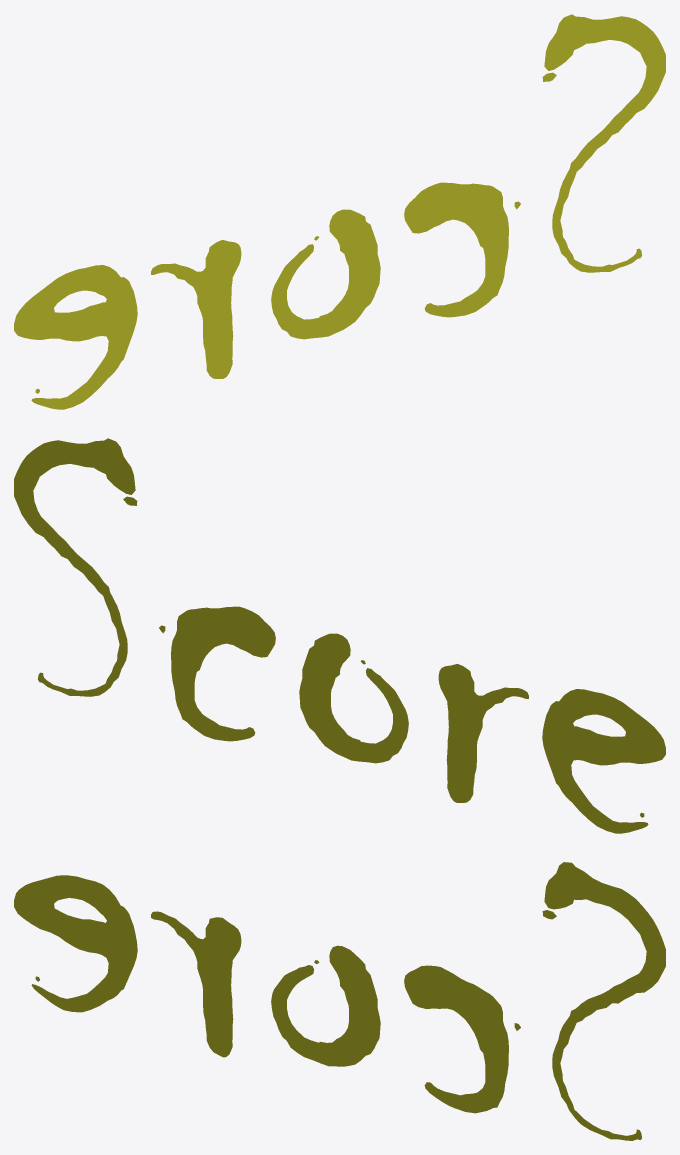
Rendered from scoreText.obj.
The picture shows the model from 3 angles, top to bottom: view 1: azimuth 30°, elevation 25°; view 2: azimuth 150°, elevation 25°; view 3: azimuth 330°, elevation 25°; orthographic projection.
Visible parts, largest first — view 1: scoreText; view 2: scoreText; view 3: scoreText.
Part boxes in pixels (x1=…): scoreText: x1=14, y1=14, x2=665, y2=409; scoreText: x1=14, y1=438, x2=665, y2=833; scoreText: x1=14, y1=862, x2=665, y2=1140.
Size of the model in its own units: 1.31 by 0.5375 by 0.
